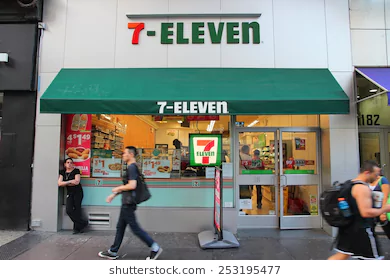Age_20_30: (122, 147, 136, 161), (64, 159, 74, 168)
Age_30_40: (363, 160, 380, 184)
E_Asian: (122, 147, 136, 161)
E_White: (363, 160, 380, 184), (64, 159, 74, 168)
Emotion_Neutral: (363, 160, 380, 184), (122, 147, 136, 161), (64, 159, 74, 168)
G_ Female: (64, 159, 74, 168)
G_Male: (363, 160, 380, 184), (122, 147, 136, 161)
